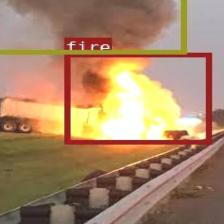fire: (64, 52, 210, 144)
smoke: (0, 0, 184, 53)
